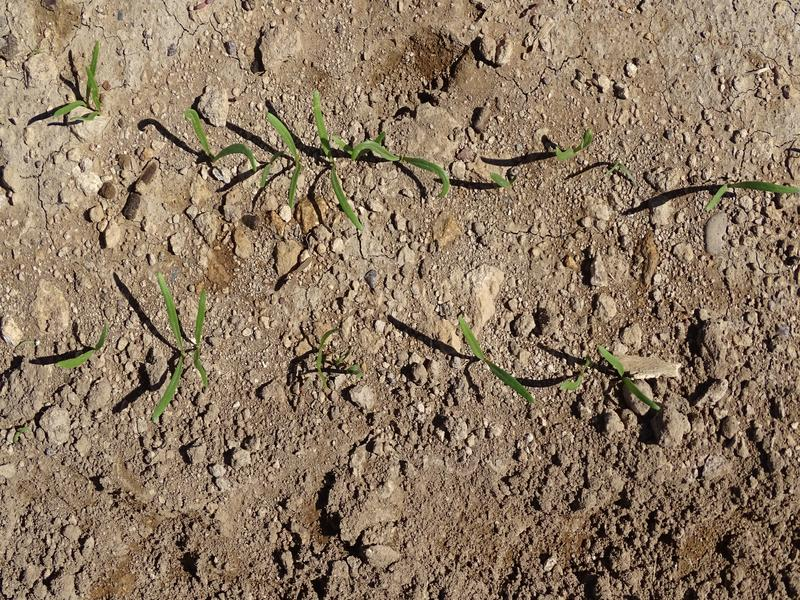Espinaca: (457, 313, 537, 404), (311, 89, 361, 232), (355, 135, 455, 192), (593, 344, 665, 415), (153, 269, 186, 422), (191, 103, 259, 173), (54, 42, 104, 130), (264, 113, 307, 213), (51, 327, 111, 376), (704, 178, 797, 209), (191, 287, 211, 384), (551, 124, 594, 163)
